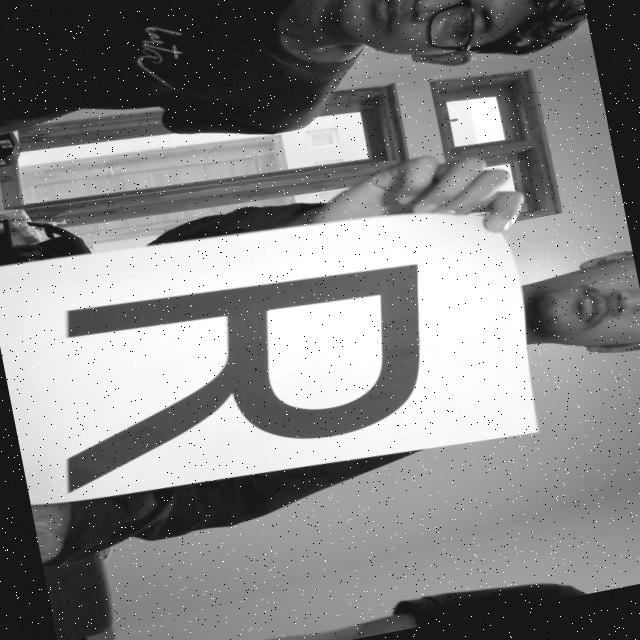r: (0, 226, 468, 529)
